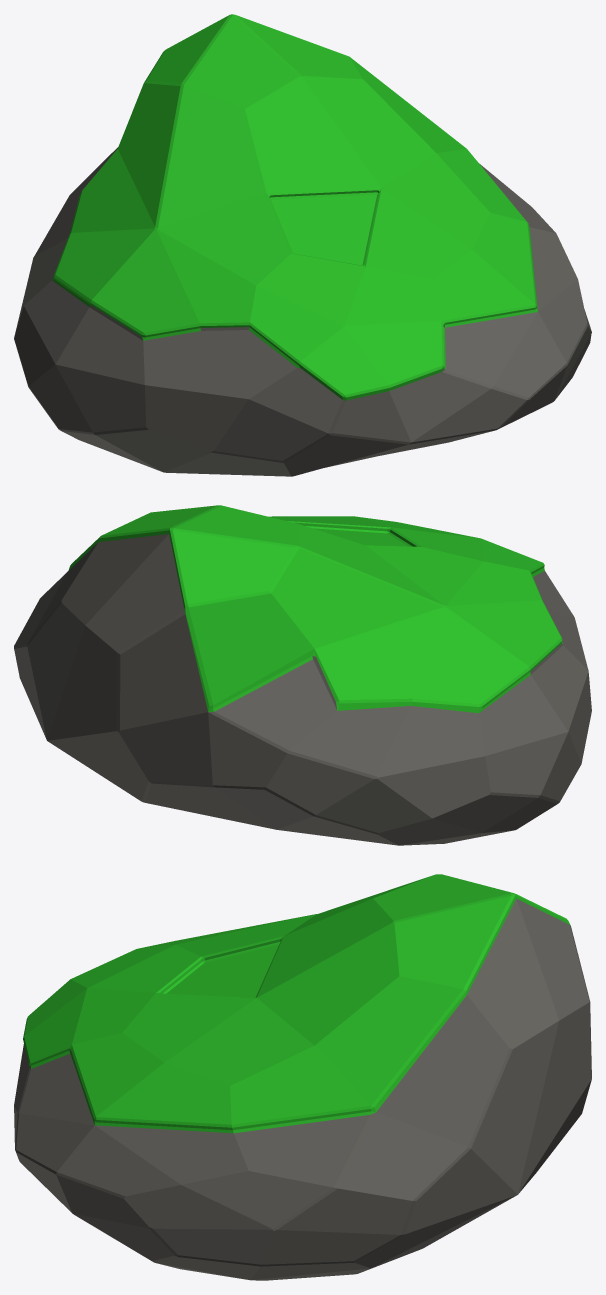
File: Rock type 8.fbx
The picture shows the model from 3 angles, top to bottom: view 1: azimuth 30°, elevation 25°; view 2: azimuth 150°, elevation 25°; view 3: azimuth 270°, elevation 25°; orthographic projection. The views are drawn at different scales.
Parts seen in each view (by area): view 1: Icosphere; view 2: Icosphere; view 3: Icosphere.
Boxes of the visible parts, x1,y1,x2,y2 form: Icosphere: (14,14,591,476); Icosphere: (14,505,591,845); Icosphere: (14,874,591,1280).
Bounding box in the file's own units: 299 × 178 × 289.
